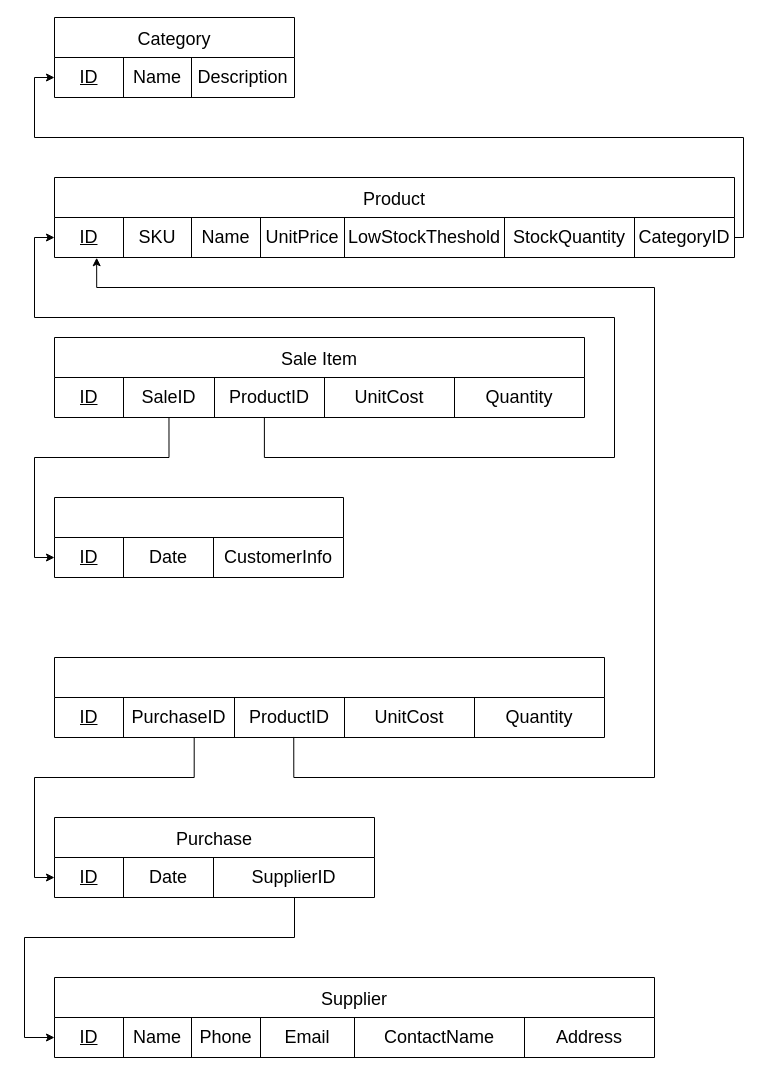
Some shapes in this 769 by 1075 pixel diagram are drawn without their labels. The box of each missing label's shape, as (x1, y1, x2, y2) in pixels:
Purchase Item: (54, 656, 604, 738)
Sale: (54, 496, 344, 578)
